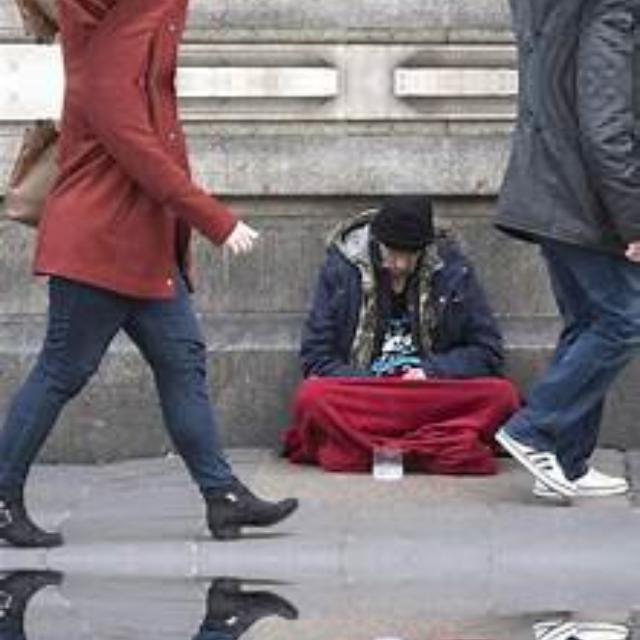person: (1, 81, 286, 535), (490, 81, 640, 529), (285, 182, 521, 460), (0, 0, 285, 81), (0, 583, 285, 640), (490, 0, 639, 81), (490, 589, 639, 640)
